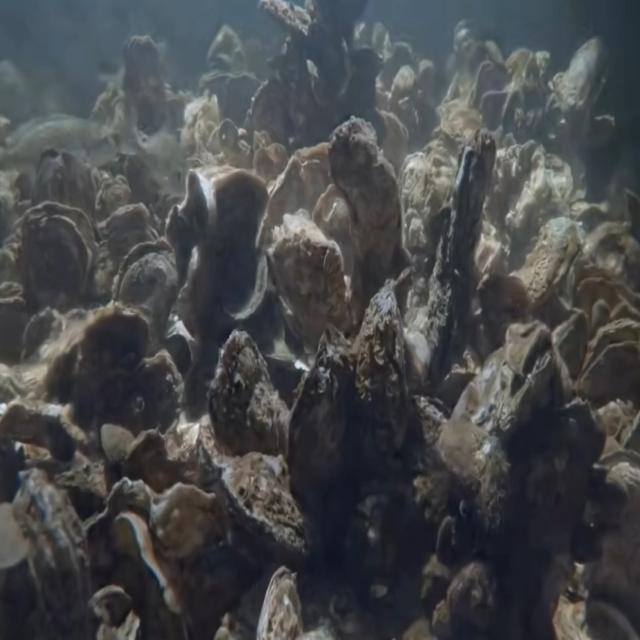Oyster-Closed: (328, 116, 403, 294), (208, 450, 314, 568), (252, 565, 304, 640), (100, 419, 138, 464)
Oyster-Indeterminate: (429, 130, 498, 349), (450, 324, 568, 449), (284, 321, 356, 514), (10, 465, 89, 639), (268, 208, 347, 348), (47, 302, 150, 400), (205, 328, 282, 456), (353, 279, 405, 461), (213, 168, 271, 320), (22, 199, 101, 309), (508, 217, 589, 315), (397, 152, 441, 302), (128, 346, 184, 432), (551, 314, 593, 406)
Oyster-Open: (115, 236, 182, 348), (573, 319, 640, 418), (167, 165, 215, 268)
